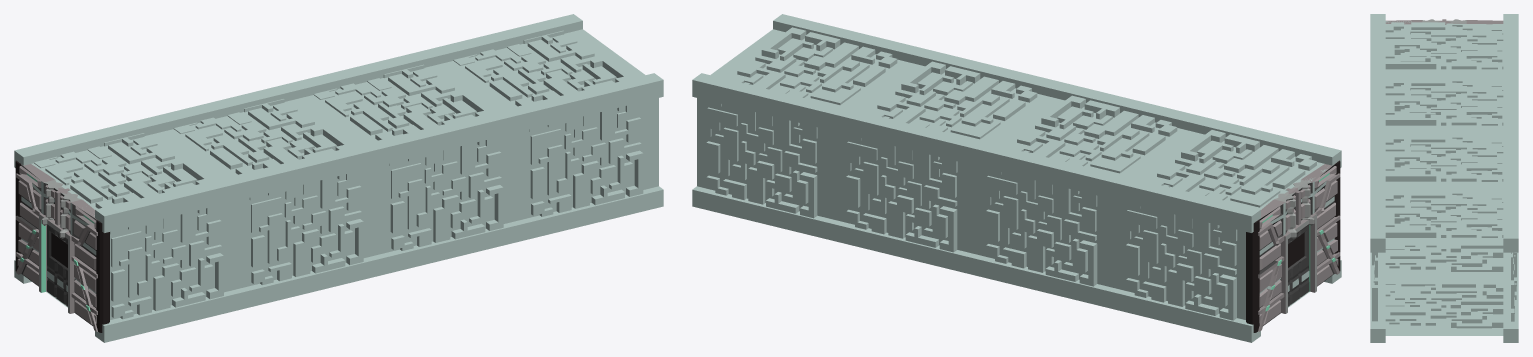
File: room6.fbx
3 views of the same model, side by side, from view 1: azimuth 30°, elevation 25°; view 2: azimuth 150°, elevation 25°; view 3: azimuth 270°, elevation 25° (orthographic). The views are drawn at different scales.
Parts seen in each view (by area): view 1: door, ugly pillar.025; view 2: door, ugly pillar.025; view 3: door, ugly pillar.025.
Boxes of the visible parts, x1,y1,x2,y2 form: door: (14,14,663,342); ugly pillar.025: (15,160,109,332); door: (692,14,1341,342); ugly pillar.025: (1246,160,1340,332); door: (1370,14,1518,342); ugly pillar.025: (1385,19,1503,24).
Bounding box in the file's own units: 1624 × 346 × 446.
